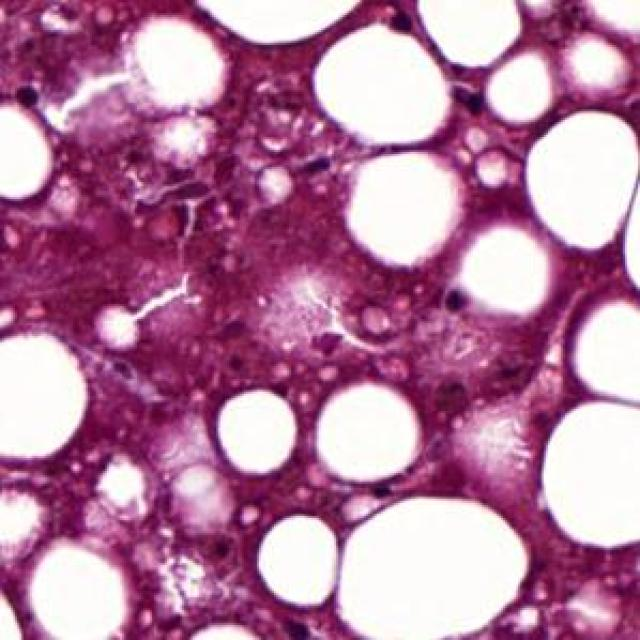steatosis: (315, 19, 447, 146), (255, 507, 346, 610), (212, 390, 304, 475)
